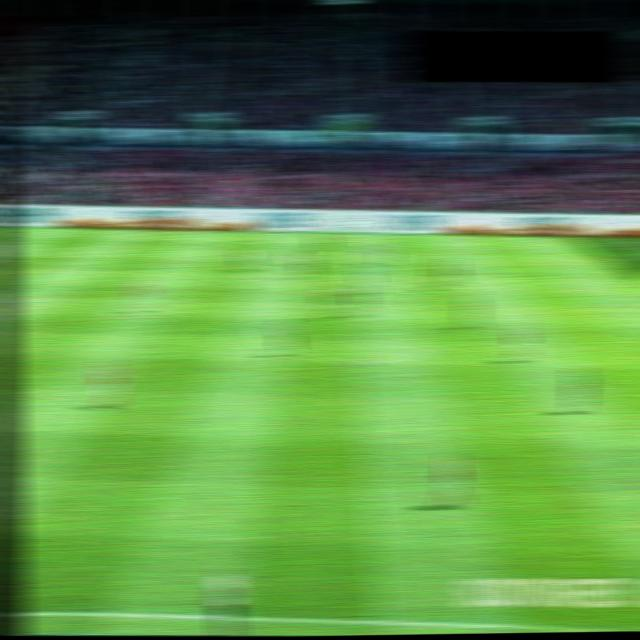bigarea_top_inner: (55, 250, 79, 262)
halfcircle_bottom: (347, 354, 371, 366)
halfcircle_top: (344, 284, 368, 296)
midline_bottom_intersection: (369, 611, 397, 630)
midline_top_intersection: (336, 228, 360, 240)
top_arc_area_intersection: (9, 282, 33, 294)
